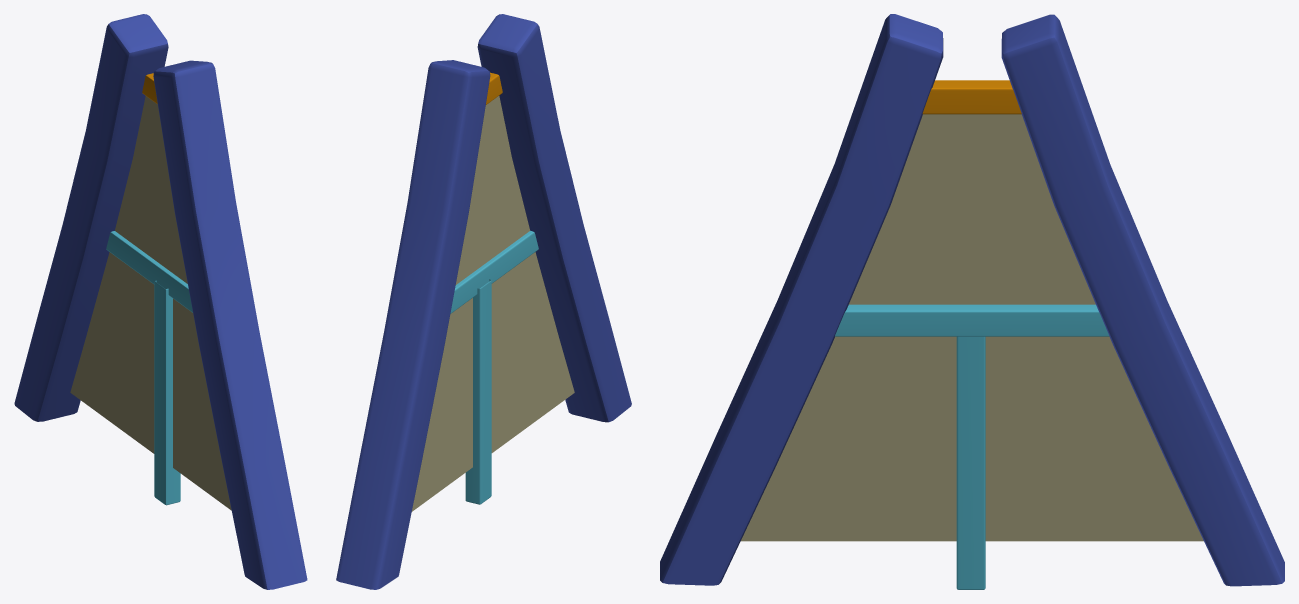
Rendered from SM_3Floor_Balks_01.fbx.
The picture shows the model from 3 angles, left to right: view 1: azimuth 30°, elevation 25°; view 2: azimuth 150°, elevation 25°; view 3: azimuth 270°, elevation 25°; orthographic projection. The views are drawn at different scales.
Visible parts, largest first — view 1: SM_3Floor_Balks_01; view 2: SM_3Floor_Balks_01; view 3: SM_3Floor_Balks_01.
Part boxes in pixels (x1,y1,x2,y2): SM_3Floor_Balks_01: [14, 14, 307, 589]; SM_3Floor_Balks_01: [336, 14, 631, 589]; SM_3Floor_Balks_01: [660, 14, 1284, 589].
Size of the model in its own units: 0.3083 by 3.02 by 3.06.
